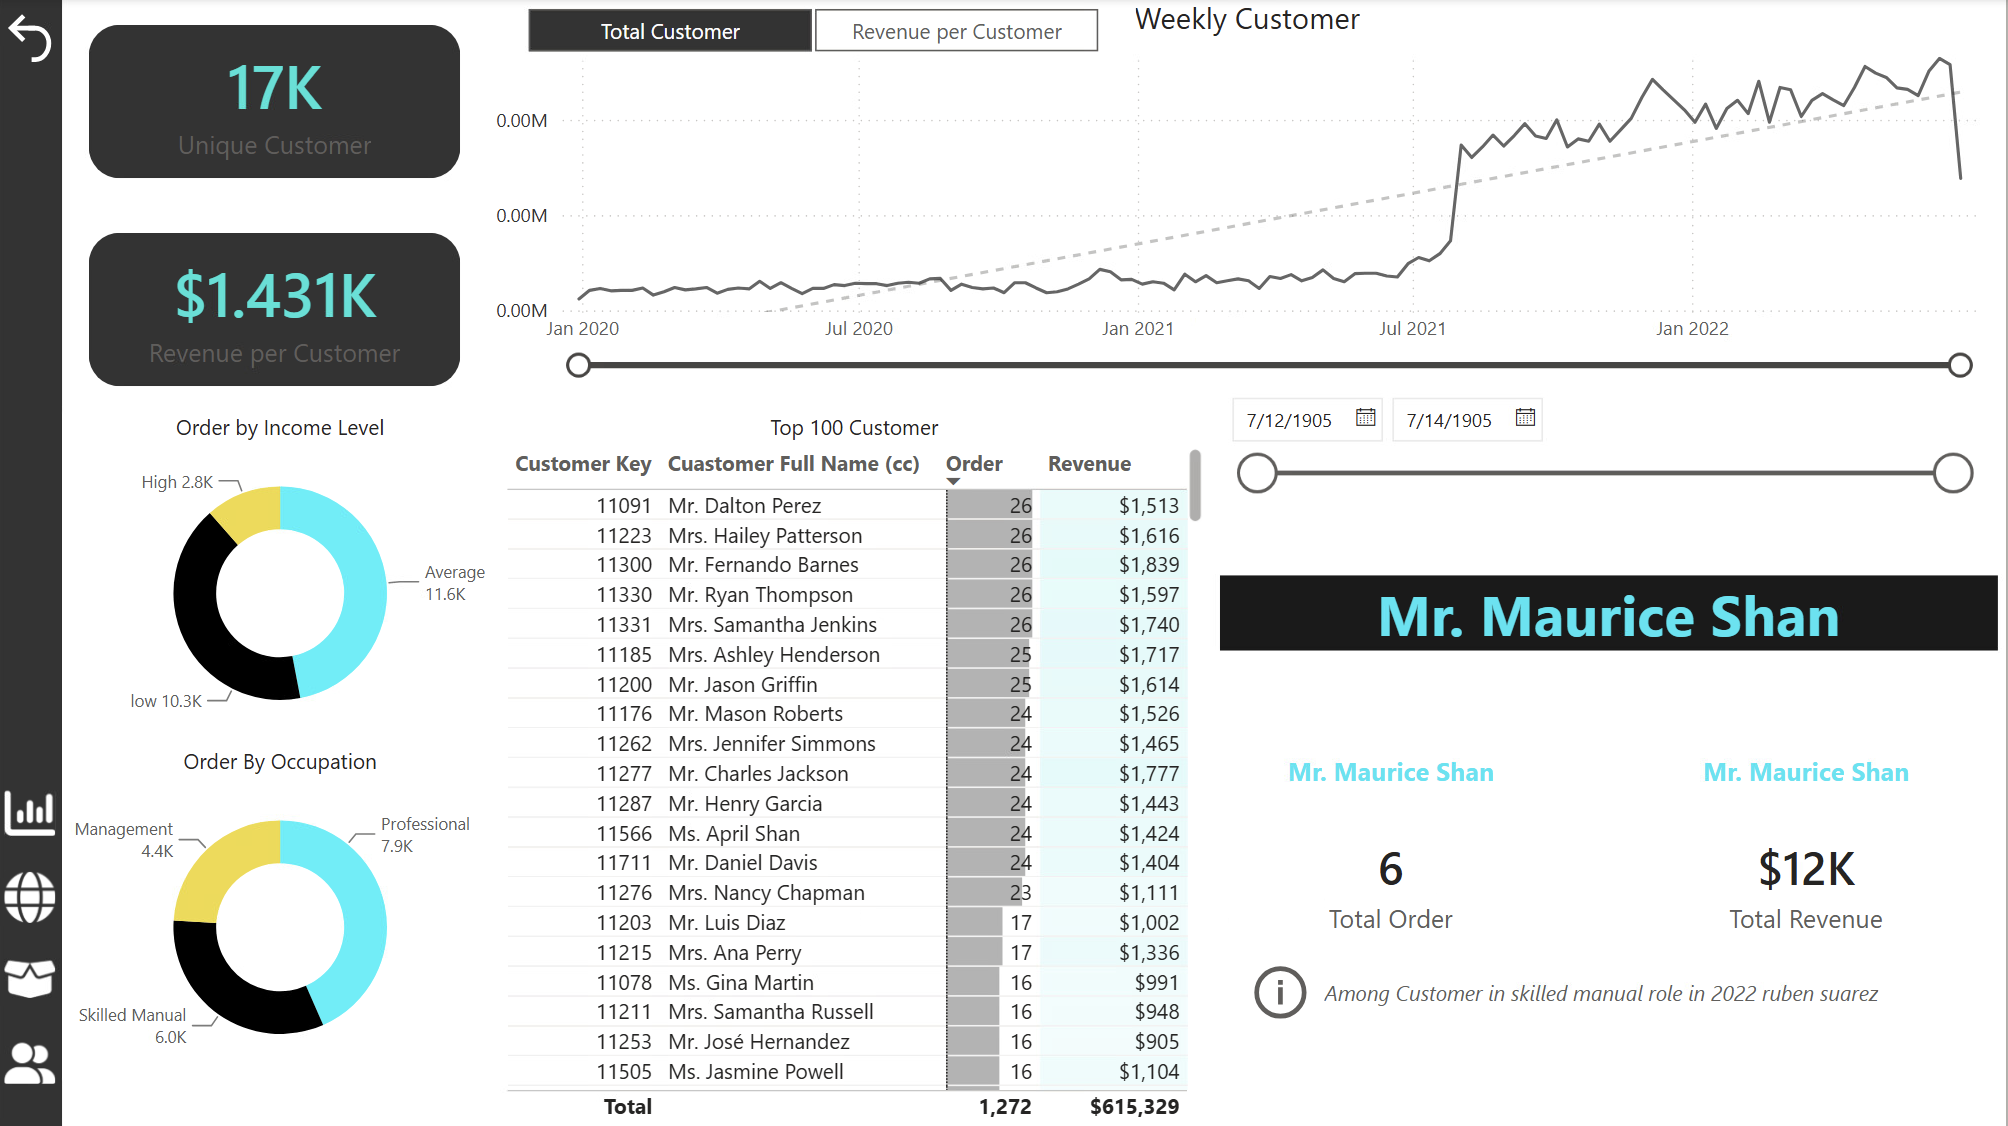

This screenshot's page, from the dashboard's own definition file:
{"tool":"powerbi","page":{"name":"Customer Details","canvas":[1280,720],"ordinal":3},"visuals":[{"type":"shape","box":[0,0,41,720.5],"z":0},{"type":"actionButton","box":[0,546.7,40.7,53.1],"z":0,"group":"g2"},{"type":"group","id":"g1","title":"Group 1","box":[40.8,0,271.3,264.2],"z":1000},{"type":"cardVisual","fields":{"Data":["Measure Table.Total Customer"]},"box":[40.8,0,271.3,132.1],"z":1000,"group":"g1"},{"type":"actionButton","box":[0,653,40.7,53.1],"z":1000,"group":"g2"},{"type":"lineChart","title":"Weekly Customer","fields":{"Y":["select","Measure Table.Unique Customer"],"Category":["Calendar Lookup.Date Hierarchy.Start of Year","Calendar Lookup.Date Hierarchy.Start of Month","Calendar Lookup.Date Hierarchy.Start of Week","Calendar Lookup.Date Hierarchy.Date"]},"box":[312.2,0,967.8,245.1],"z":2000},{"type":"actionButton","box":[0,493.6,40.7,53.1],"z":2000,"group":"g2"},{"type":"cardVisual","title":"RETURN","fields":{"Data":["Measure Table.Average Revenue per Customer"]},"box":[40.8,132.1,271.3,132.1],"z":3000,"group":"g1"},{"type":"donutChart","title":"Order by Income Level","fields":{"Category":["Customer Lookup.Income Level"],"Y":["Measure Table.Total Order"]},"box":[40.9,263.6,278.2,213],"z":3000},{"type":"actionButton","box":[0,599.9,40.7,53.1],"z":3000,"group":"g2"},{"type":"donutChart","title":"Order By Occupation","fields":{"Y":["Measure Table.Total Order"],"Category":["Customer Lookup.Occupation"]},"box":[40.9,476.6,278.2,213],"z":4000},{"type":"tableEx","title":"Top 100 Customer ","fields":{"Values":["Customer Lookup.CustomerKey","Customer Lookup.Cuastomer Full Name (cc)","Measure Table.Total Order","Measure Table.Total Revenue"]},"box":[319,263.6,454.2,456.2],"z":5000},{"type":"cardVisual","fields":{"Data":["Measure Table.Total Revenue"],"Rows":["Customer Lookup.Full Name"]},"box":[773.3,343.3,506.7,198.4],"z":6000},{"type":"cardVisual","fields":{"Data":["Measure Table.Total Order"],"Rows":["Customer Lookup.Cuastomer Full Name (cc)"]},"box":[773.3,443.5,228.6,196.5],"z":7000},{"type":"cardVisual","fields":{"Data":["Measure Table.Total Revenue"],"Rows":["Customer Lookup.Cuastomer Full Name (cc)"]},"box":[1038.8,443.5,227.6,196.5],"z":8000},{"type":"slicer","fields":{"Values":["Calendar Lookup.Year"]},"box":[773.3,245.1,493.1,84.6],"z":9000},{"type":"actionButton","box":[796.1,612.6,435,43.9],"z":10000},{"type":"actionButton","box":[0,0,40.9,50.9],"z":11000},{"type":"group","id":"g2","title":"Navigation buttons ","box":[0,493.6,40.7,212.6],"z":12000},{"type":"slicer","fields":{"Values":["Customer Metric Selection .Customer Metric Selection "]},"box":[312.1,0,413.2,39.9],"z":12001}]}

Visuals, with their boxes on the page's 1280x720 design canvas (x1, y1, x2, y2). These are canvas units, not pixel positions in the 2008x1126 screenshot, which may show the page scaled, cropped or inside an application window:
shape: 0,0,41,720
actionButton: 0,547,41,600
"Group 1" group: 41,0,312,264
cardVisual - Measure Table.Total Customer: 41,0,312,132
actionButton: 0,653,41,706
"Weekly Customer" lineChart: 312,0,1280,245
actionButton: 0,494,41,547
"RETURN" cardVisual: 41,132,312,264
"Order by Income Level" donutChart: 41,264,319,477
actionButton: 0,600,41,653
"Order By Occupation" donutChart: 41,477,319,690
"Top 100 Customer " tableEx: 319,264,773,720
cardVisual - Measure Table.Total Revenue x Customer Lookup.Full Name: 773,343,1280,542
cardVisual - Measure Table.Total Order x Customer Lookup.Cuastomer Full Name (cc): 773,444,1002,640
cardVisual - Measure Table.Total Revenue x Customer Lookup.Cuastomer Full Name (cc): 1039,444,1266,640
slicer - Calendar Lookup.Year: 773,245,1266,330
actionButton: 796,613,1231,656
actionButton: 0,0,41,51
"Navigation buttons " group: 0,494,41,706
slicer - Customer Metric Selection .Customer Metric Selection : 312,0,725,40
